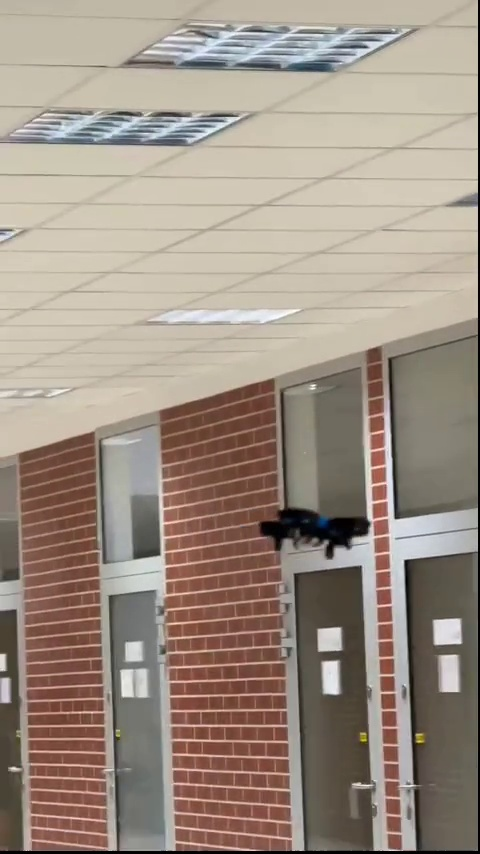drone: (258, 507, 368, 564)
